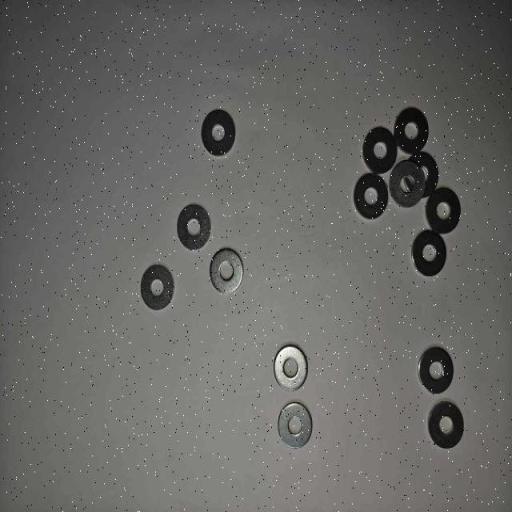washer: (426, 401, 465, 450), (388, 160, 426, 207), (424, 188, 462, 234), (411, 230, 447, 278), (418, 346, 454, 394), (362, 127, 398, 173), (353, 172, 389, 218), (202, 109, 236, 157), (274, 344, 308, 392), (209, 248, 244, 294), (140, 264, 175, 310), (278, 401, 312, 448), (394, 108, 428, 154), (177, 204, 211, 250), (406, 152, 438, 198)
